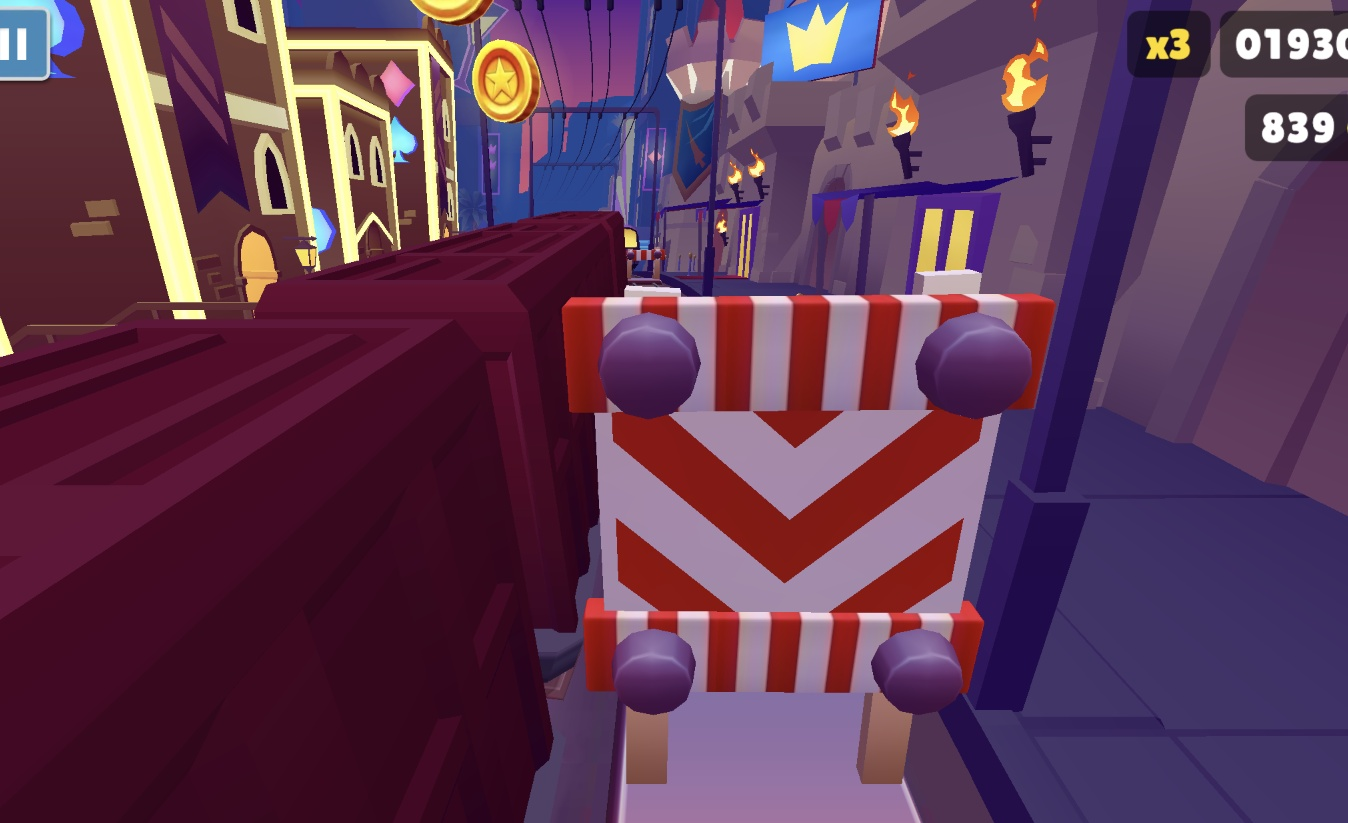ground_barrier: (626, 247, 667, 281)
overhead_barrier: (558, 271, 1059, 785)
train: (0, 211, 630, 823), (623, 224, 640, 249)
